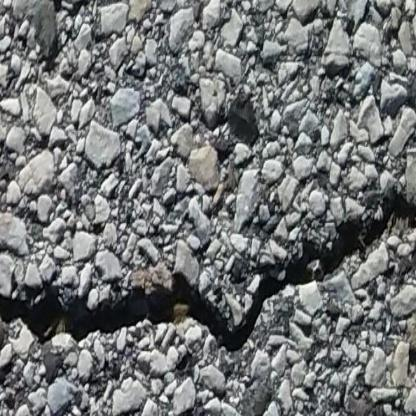Cracks: (0, 191, 416, 353)
